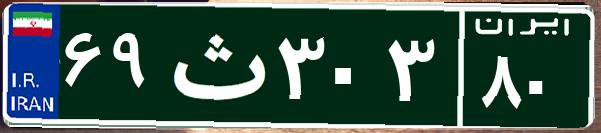0: (330, 28, 385, 110), (525, 38, 570, 115)
3: (385, 28, 445, 110), (273, 28, 330, 110)
6: (57, 26, 110, 107)
8: (475, 38, 525, 113)
9: (110, 28, 158, 105)
ث: (158, 15, 273, 115)
